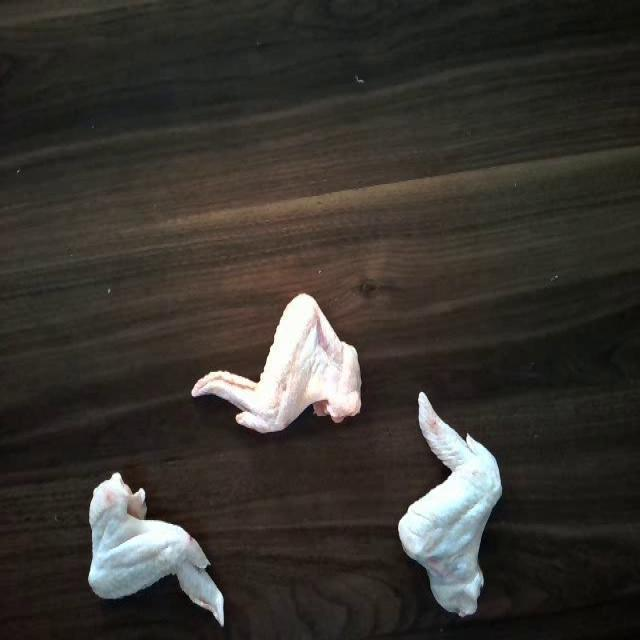wing: (198, 287, 358, 442), (397, 376, 499, 618), (88, 470, 228, 630)
